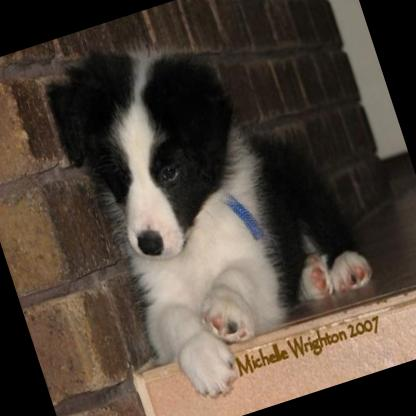collie: (36, 0, 399, 416)
